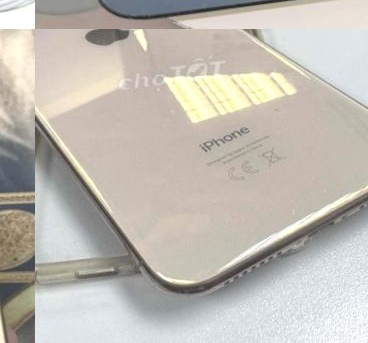scratch: (299, 166, 324, 189), (280, 200, 305, 222), (316, 184, 334, 197)
